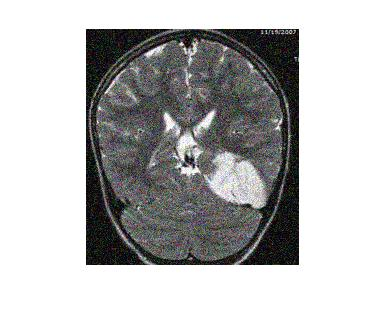Brain_Cancer: (208, 150, 269, 209)
